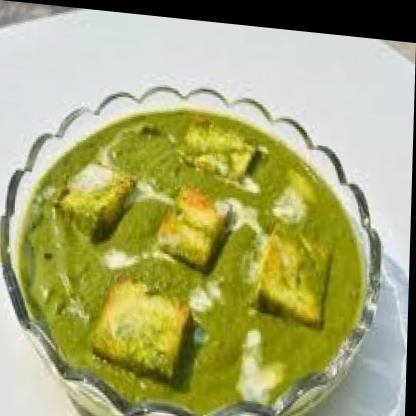palak_paneer: (17, 91, 365, 416)
